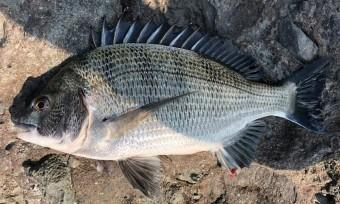fish: (13, 19, 333, 203)
